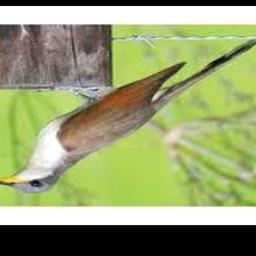Cuckoo: (0, 39, 256, 194)
